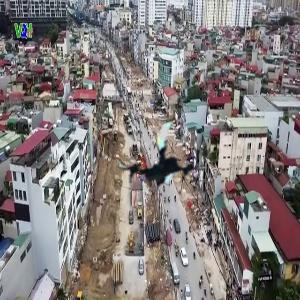drone: (120, 109, 216, 205)
